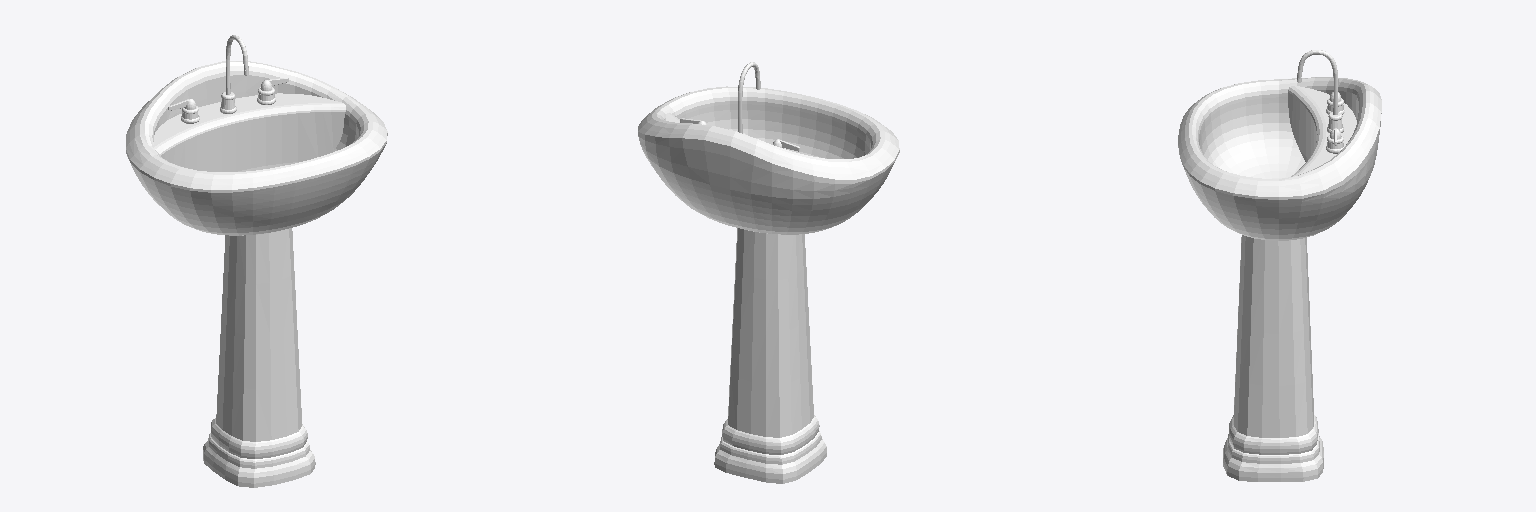
Rendered from sink.obj.
3 views of the same model, side by side, from view 1: azimuth 30°, elevation 25°; view 2: azimuth 150°, elevation 25°; view 3: azimuth 270°, elevation 25° (orthographic).
Parts seen in each view (by area): view 1: simple_sin; view 2: simple_sin; view 3: simple_sin.
Boxes of the visible parts, box(x1,y1,x2,y2) form: simple_sin: box(126, 35, 387, 487); simple_sin: box(638, 62, 899, 483); simple_sin: box(1178, 50, 1381, 481).
Bounding box in the file's own units: 12.87 × 21.69 × 9.69.